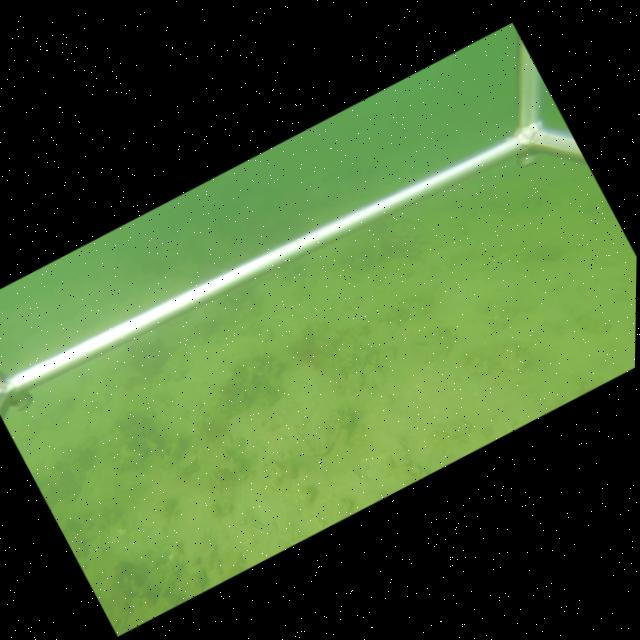Oyster-Indeterminate: (303, 403, 346, 455)
